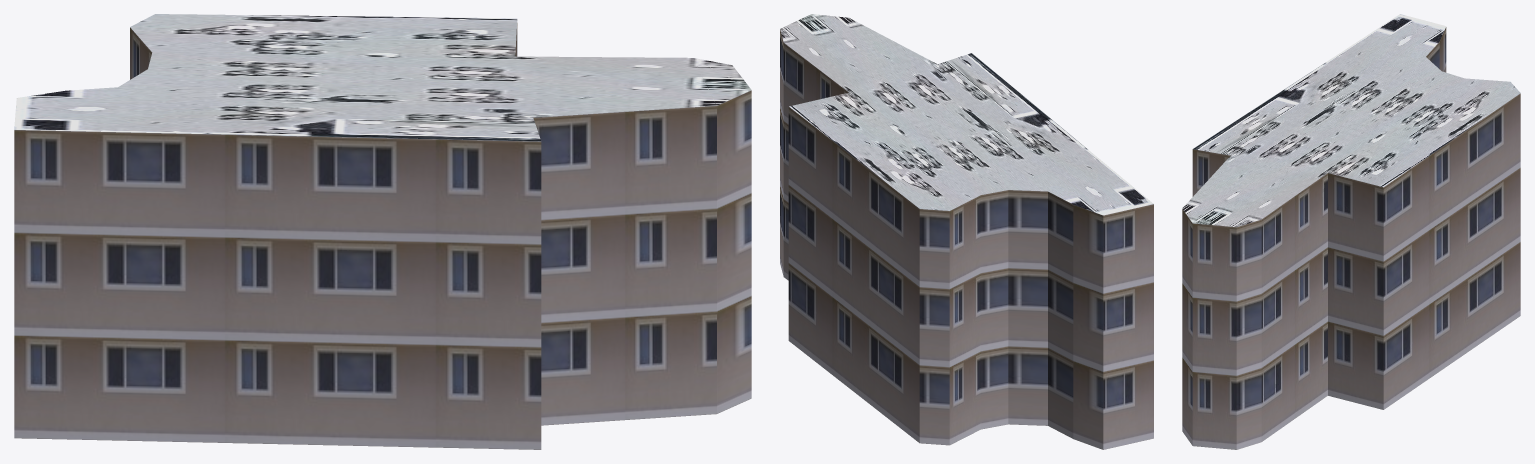
Rendered from ResTex__3277.fbx.
3 renders of one model, left to right at view 1: azimuth 30°, elevation 25°; view 2: azimuth 150°, elevation 25°; view 3: azimuth 270°, elevation 25°, orthographic. The views are drawn at different scales.
Visible parts, largest first — view 1: CityEngineMaterial_21_m, CityEngineMaterial_8_m; view 2: CityEngineMaterial_21_m, CityEngineMaterial_8_m; view 3: CityEngineMaterial_21_m, CityEngineMaterial_8_m.
Boxes of the visible parts, x1,y1,x2,y2 form: CityEngineMaterial_21_m: [14, 23, 751, 449]; CityEngineMaterial_8_m: [14, 14, 751, 141]; CityEngineMaterial_21_m: [780, 29, 1153, 449]; CityEngineMaterial_8_m: [780, 14, 1153, 215]; CityEngineMaterial_21_m: [1182, 27, 1520, 449]; CityEngineMaterial_8_m: [1182, 14, 1520, 227].
Size of the model in its own units: 18.48 by 9 by 12.4.
Materials: 2 (2 with a texture image).
